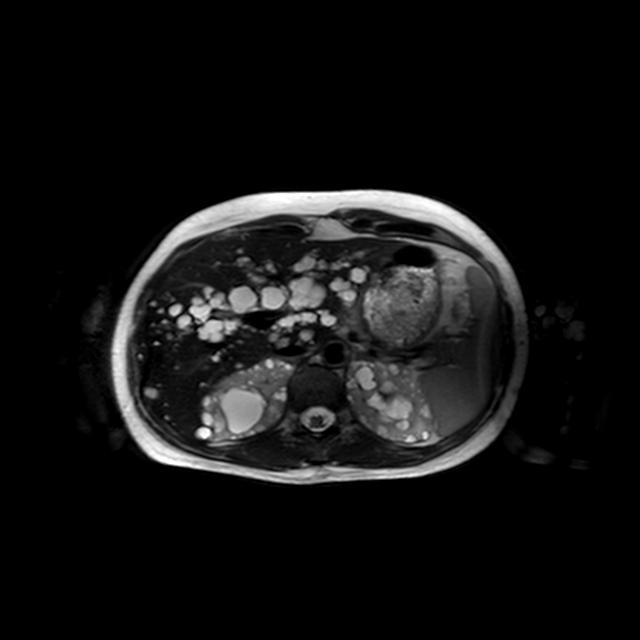sag: (192, 358, 300, 446)
sol: (344, 358, 438, 443)
